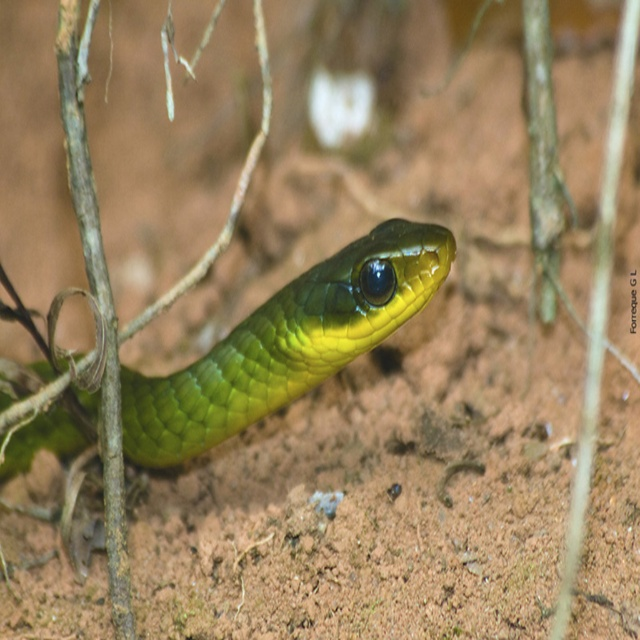Snake: (0, 218, 458, 487)
